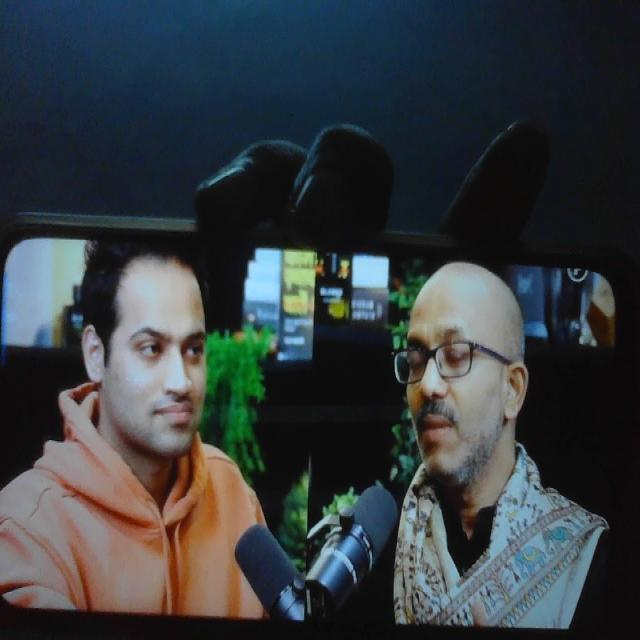fake: (390, 241, 520, 488), (90, 225, 212, 456)
